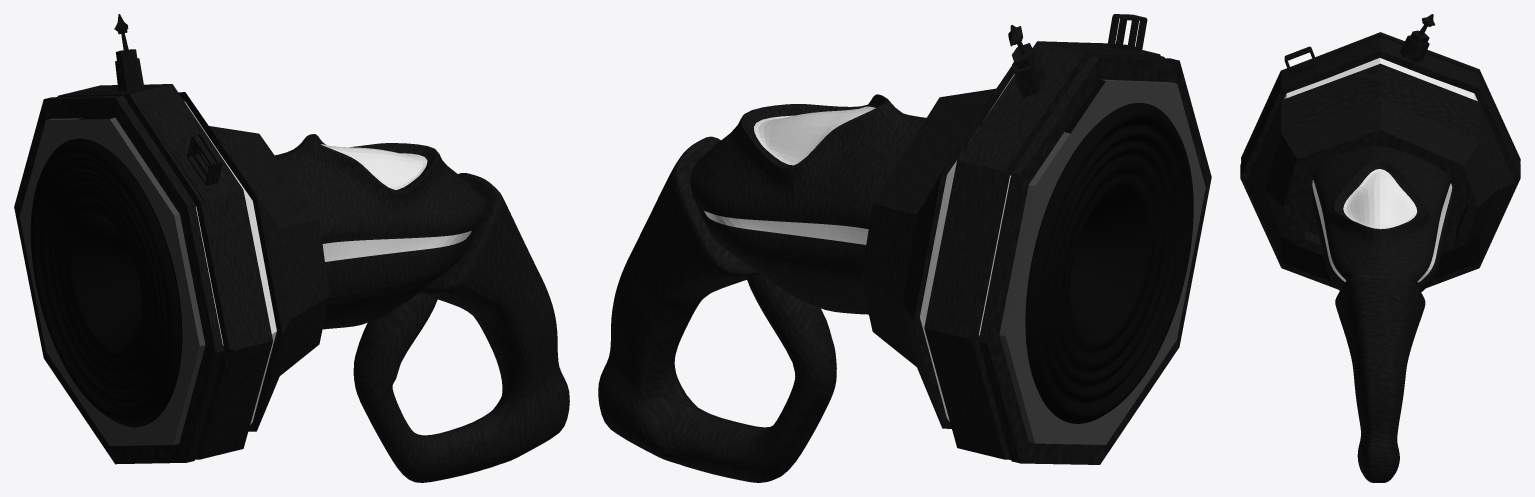
The model's file is WEAPON.fbx.
3 renders of one model, left to right at view 1: azimuth 30°, elevation 25°; view 2: azimuth 150°, elevation 25°; view 3: azimuth 270°, elevation 25°, orthographic. The views are drawn at different scales.
Visible parts, largest first — view 1: Cylinder.001; view 2: Cylinder.001; view 3: Cylinder.001.
Part boxes in pixels (box(x1,y1,x2,y2)): Cylinder.001: box(14, 14, 569, 482); Cylinder.001: box(598, 14, 1211, 482); Cylinder.001: box(1240, 14, 1520, 482).
Size of the model in its own units: 165 by 173 by 125.
4 materials, 1 textured.
